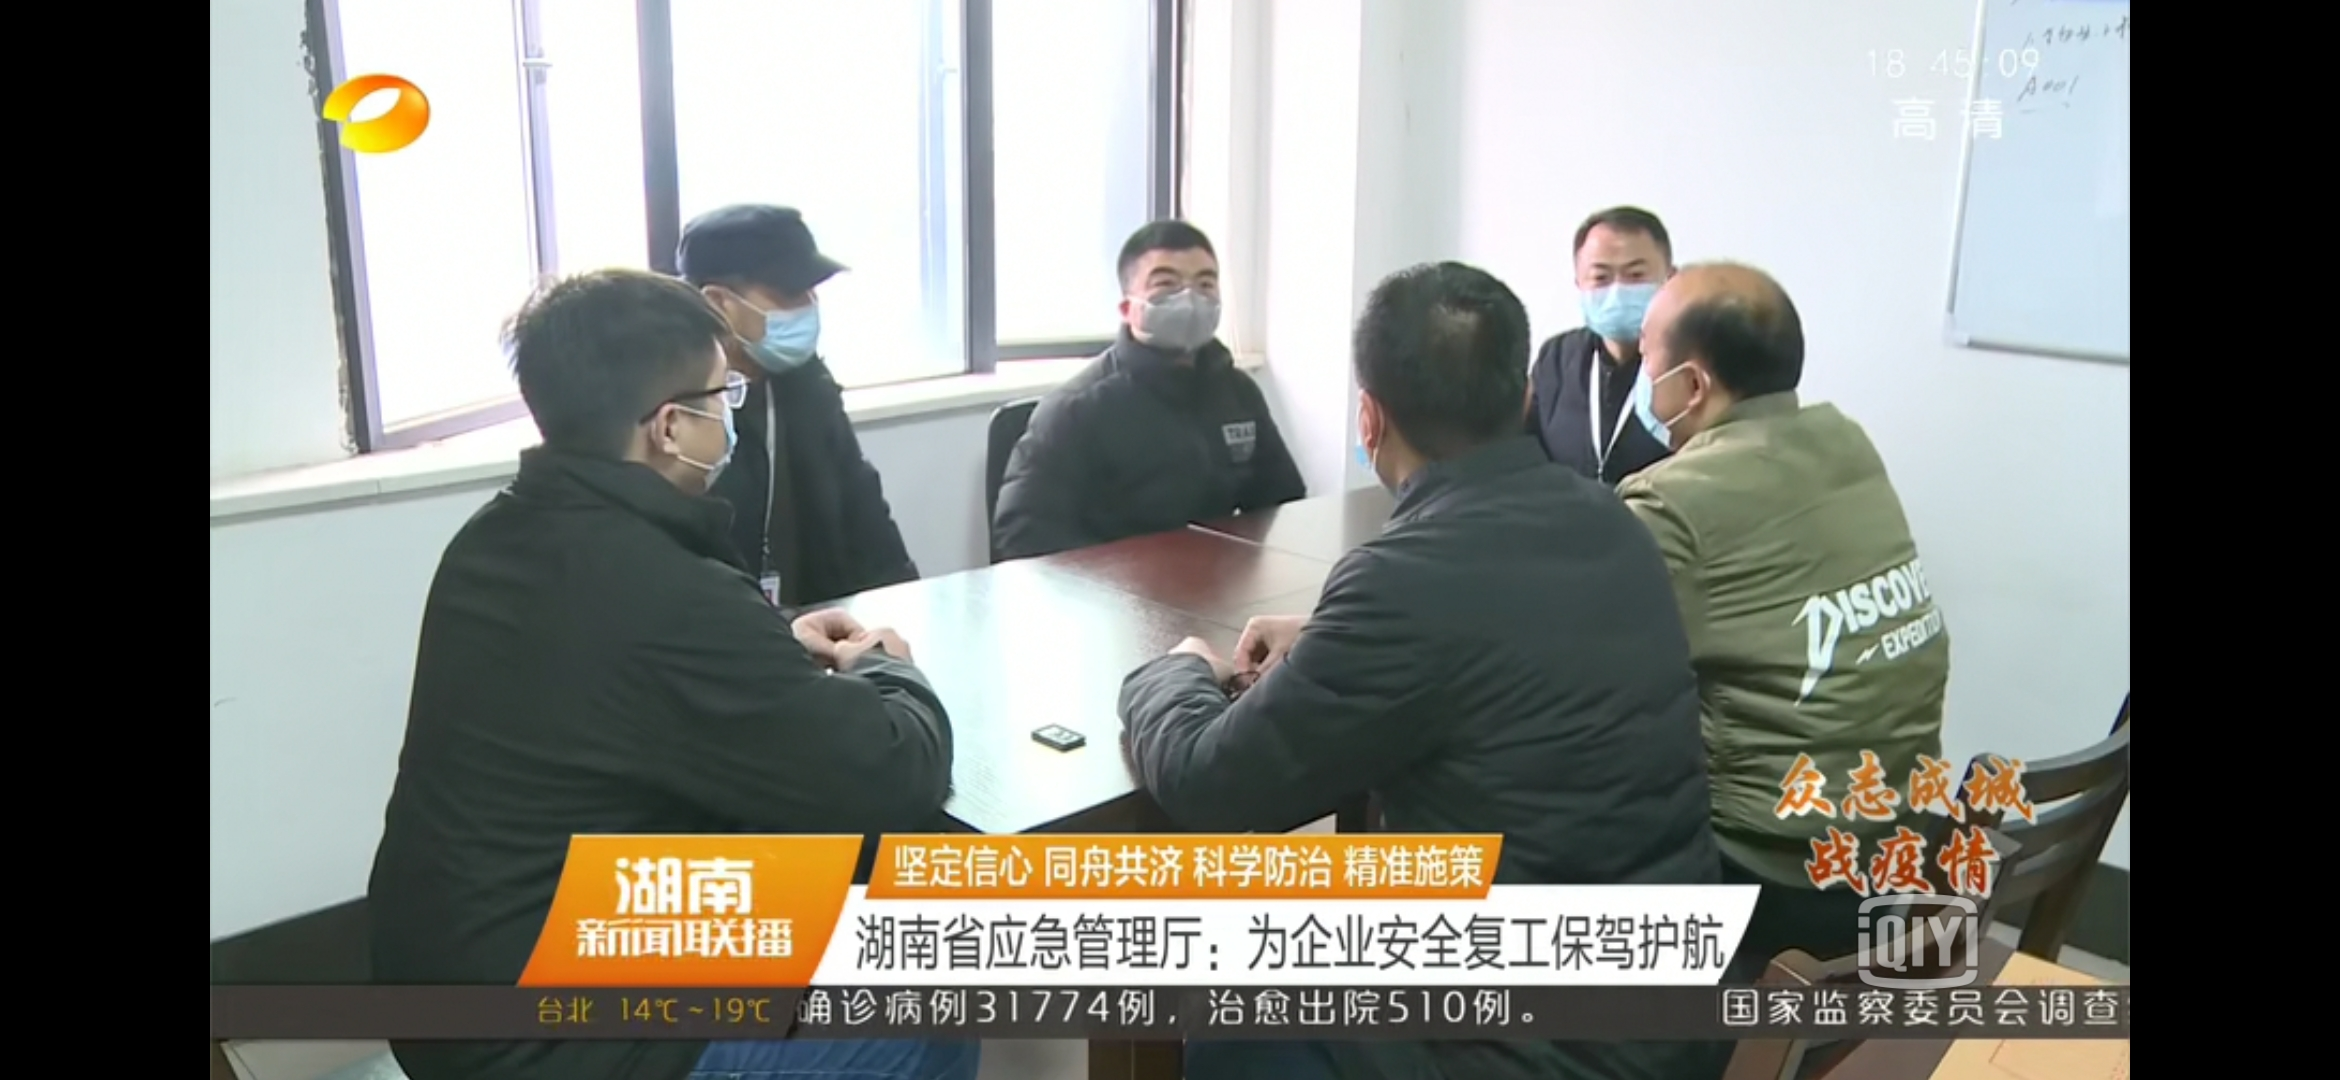correctlyWear: (642, 351, 751, 501), (704, 245, 825, 373), (1633, 328, 1715, 449), (1119, 267, 1224, 354), (1576, 245, 1664, 342)
